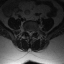CCS_normal: (29, 29, 31, 37)
LFS_normal: (33, 28, 35, 34)
LLS_normal: (31, 29, 33, 36)
RFS_normal: (25, 28, 27, 34)
RLS_normal: (27, 29, 29, 35)
